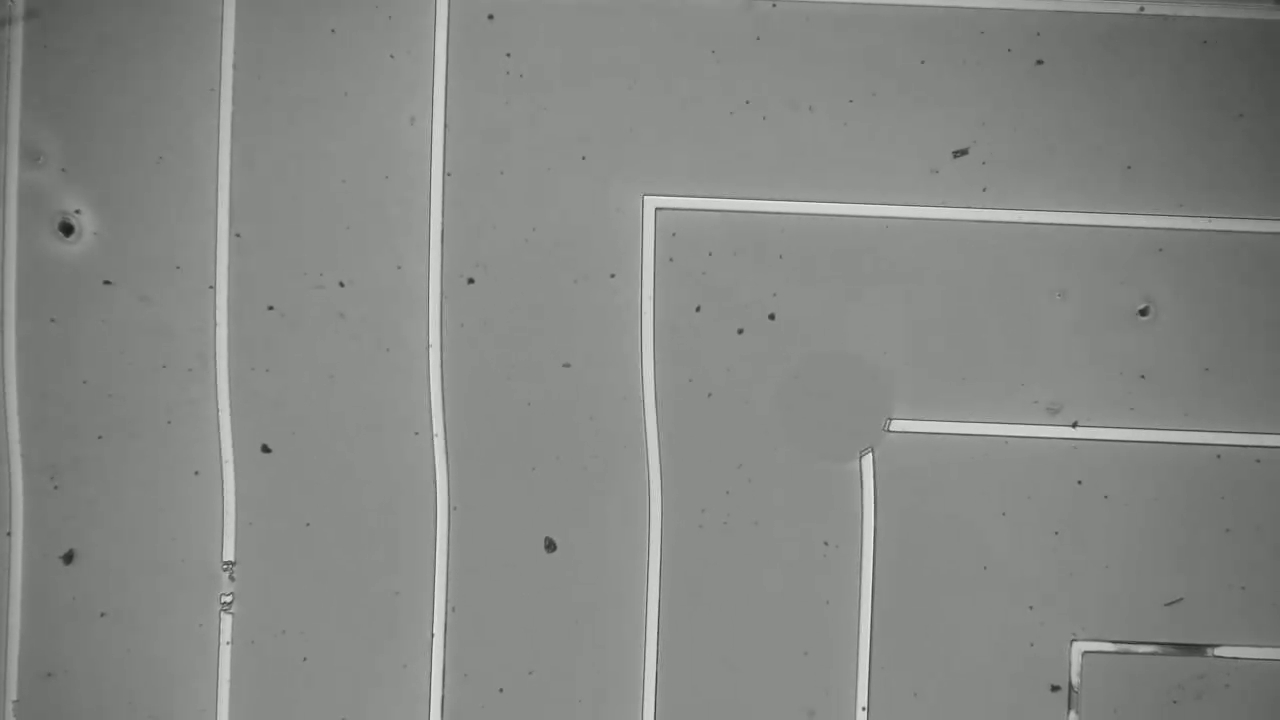gray_line: (1098, 625, 1242, 672), (1063, 667, 1088, 720)
open: (834, 391, 920, 485), (200, 533, 259, 657)
